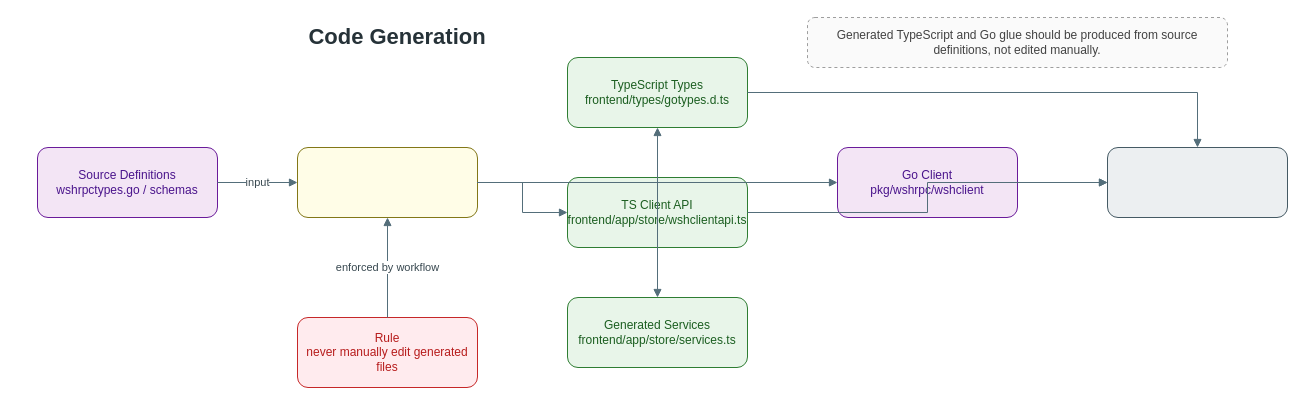
Some shapes in this 1305 by 405 pixel diagram are drawn without their labels. The shapes that lost their labels are listed below. From the top down, each one's box as (x1, y1, x2, y2) in pixels, then its label:
(296, 146, 478, 218): task generate project generator commands
(1106, 146, 1288, 218): Consumers views, wsh CLI, backend routes
